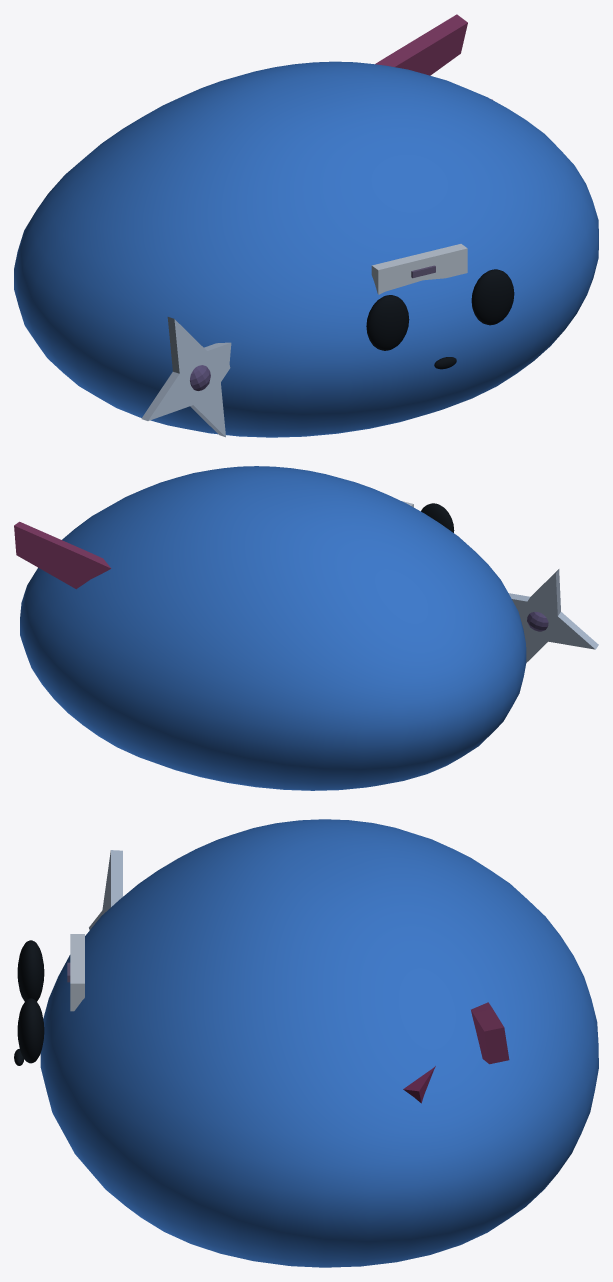
Rendered from ninja-slime.glb.
The picture shows the model from 3 angles, top to bottom: view 1: azimuth 30°, elevation 25°; view 2: azimuth 150°, elevation 25°; view 3: azimuth 270°, elevation 25°; orthographic projection. The views are drawn at different scales.
Visible parts, largest first — view 1: Body, Ninja_Shuriken, Ninja_ScarfTail_Upper, Ninja_ForeheadPlate, Eye_L, Eye_R; view 2: Body, Ninja_ScarfTail_Upper, Ninja_Shuriken, Eye_L; view 3: Body, Ninja_ScarfTail_Upper, Eye_R, Eye_L, Ninja_ForeheadPlate, Ninja_Shuriken.
Boxes of the visible parts, x1,y1,x2,y2 form: Body: [14, 61, 598, 437]; Ninja_Shuriken: [141, 317, 231, 437]; Ninja_ScarfTail_Upper: [375, 14, 467, 75]; Ninja_ForeheadPlate: [371, 244, 467, 294]; Eye_L: [366, 295, 409, 350]; Eye_R: [471, 269, 514, 325]; Body: [20, 466, 526, 790]; Ninja_ScarfTail_Upper: [14, 521, 111, 589]; Ninja_Shuriken: [508, 569, 598, 662]; Eye_L: [421, 503, 454, 532]; Body: [40, 819, 598, 1267]; Ninja_ScarfTail_Upper: [471, 1002, 509, 1064]; Eye_R: [17, 998, 44, 1063]; Eye_L: [17, 940, 44, 1001]; Ninja_ForeheadPlate: [70, 934, 84, 1011]; Ninja_Shuriken: [89, 850, 122, 929].
Size of the model in its own units: 2.4 by 1.18 by 2.
